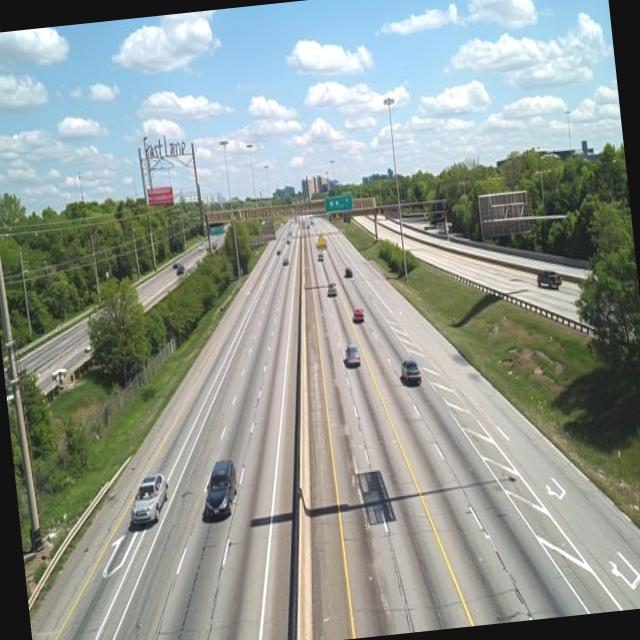Vehicle: (196, 440, 250, 540), (127, 460, 172, 536), (394, 344, 428, 394), (334, 336, 366, 373), (320, 270, 340, 304), (347, 302, 371, 329), (342, 261, 356, 281), (278, 253, 292, 273), (314, 247, 326, 262)
